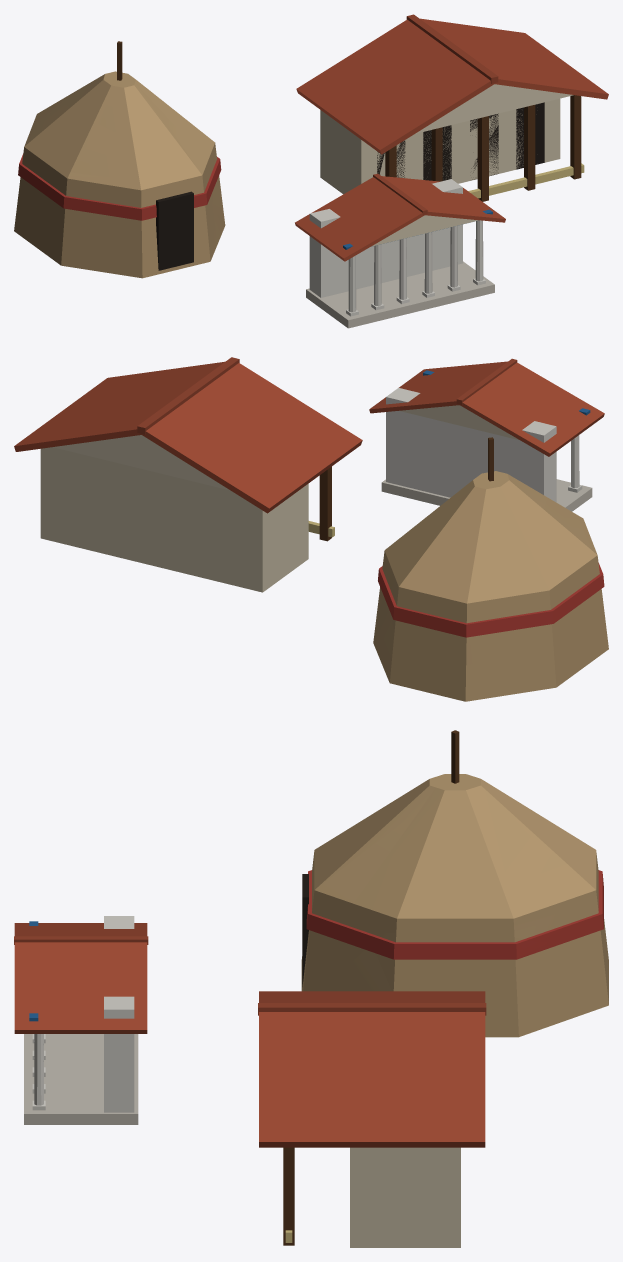
The model's file is centaur_compound_broken.glb.
3 views of the same model, one above another, from view 1: azimuth 30°, elevation 25°; view 2: azimuth 150°, elevation 25°; view 3: azimuth 270°, elevation 25° (orthographic). The views are drawn at different scales.
Visible parts, largest first — view 1: centaur_compound_piece4, centaur_compound_piece9, centaur_compound_piece5, centaur_compound_piece11, centaur_compound_piece6, centaur_compound_piece2, centaur_compound_piece8, centaur_compound_piece12, centaur_compound_piece0, centaur_compound_piece13, centaur_compound_piece1, centaur_compound_piece3 (+1 smaller); view 2: centaur_compound_piece8, centaur_compound_piece5, centaur_compound_piece6, centaur_compound_piece11, centaur_compound_piece3, centaur_compound_piece2, centaur_compound_piece9, centaur_compound_piece0, centaur_compound_piece12, centaur_compound_piece4, centaur_compound_piece7, centaur_compound_piece10 (+2 smaller); view 3: centaur_compound_piece8, centaur_compound_piece0, centaur_compound_piece5, centaur_compound_piece9, centaur_compound_piece13, centaur_compound_piece6, centaur_compound_piece2, centaur_compound_piece7, centaur_compound_piece3, centaur_compound_piece12, centaur_compound_piece1, centaur_compound_piece10 (+2 smaller).
Boxes of the visible parts, <box> form: centaur_compound_piece4: <box>22,172,396,328</box>; centaur_compound_piece9: <box>378,48,608,201</box>; centaur_compound_piece5: <box>314,79,505,306</box>; centaur_compound_piece11: <box>14,103,207,248</box>; centaur_compound_piece6: <box>296,24,600,184</box>; centaur_compound_piece2: <box>60,64,360,256</box>; centaur_compound_piece8: <box>412,14,599,182</box>; centaur_compound_piece12: <box>352,173,461,312</box>; centaur_compound_piece0: <box>115,41,401,259</box>; centaur_compound_piece13: <box>212,153,410,315</box>; centaur_compound_piece1: <box>187,175,400,317</box>; centaur_compound_piece3: <box>36,15,433,116</box>; centaur_compound_piece8: <box>14,385,240,586</box>; centaur_compound_piece5: <box>246,364,472,579</box>; centaur_compound_piece6: <box>98,384,289,592</box>; centaur_compound_piece11: <box>488,497,591,689</box>; centaur_compound_piece3: <box>137,410,481,665</box>; centaur_compound_piece2: <box>425,404,597,576</box>; centaur_compound_piece9: <box>99,357,316,533</box>; centaur_compound_piece0: <box>384,376,587,552</box>; centaur_compound_piece12: <box>431,358,539,492</box>; centaur_compound_piece4: <box>522,409,608,680</box>; centaur_compound_piece7: <box>274,566,485,701</box>; centaur_compound_piece10: <box>453,554,516,698</box>; centaur_compound_piece8: <box>280,1007,486,1247</box>; centaur_compound_piece0: <box>14,730,549,934</box>; centaur_compound_piece5: <box>14,968,434,1124</box>; centaur_compound_piece9: <box>258,998,401,1245</box>; centaur_compound_piece13: <box>24,923,514,1058</box>; centaur_compound_piece6: <box>279,991,485,1150</box>; centaur_compound_piece2: <box>14,767,572,945</box>; centaur_compound_piece7: <box>502,922,608,1037</box>; centaur_compound_piece3: <box>427,843,604,1020</box>; centaur_compound_piece12: <box>14,934,148,1076</box>; centaur_compound_piece1: <box>33,901,345,1048</box>; centaur_compound_piece10: <box>338,826,584,1037</box>.
Size of the model in its own units: 5.61 by 2 by 4.29.
